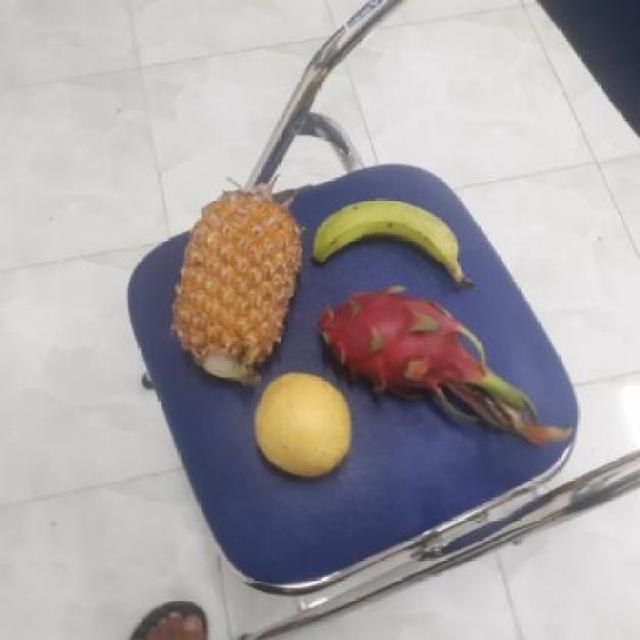banana: (310, 199, 462, 286)
dragon fruit: (308, 290, 486, 410)
pear: (249, 374, 358, 480)
pineapple: (170, 192, 302, 381)
